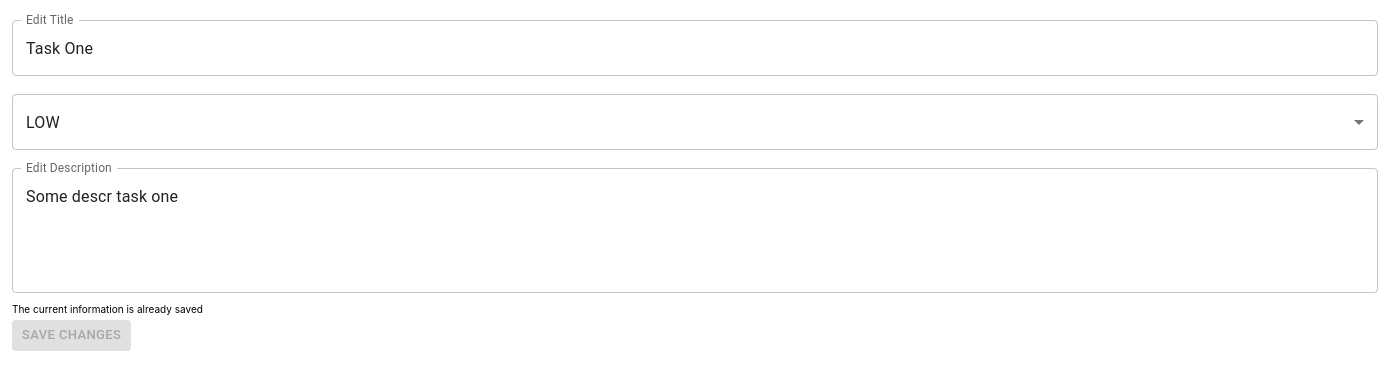
Test: <InformationTaskEdit /> Component › Save Changes is disabled if task data is the same
Expected: the button "Save Changes" is disabled, [12,320,131,351]
Type "New description" into the text box labelled "Edit Description".
click(695, 230); type("New description")  # box [26,184,1364,276]
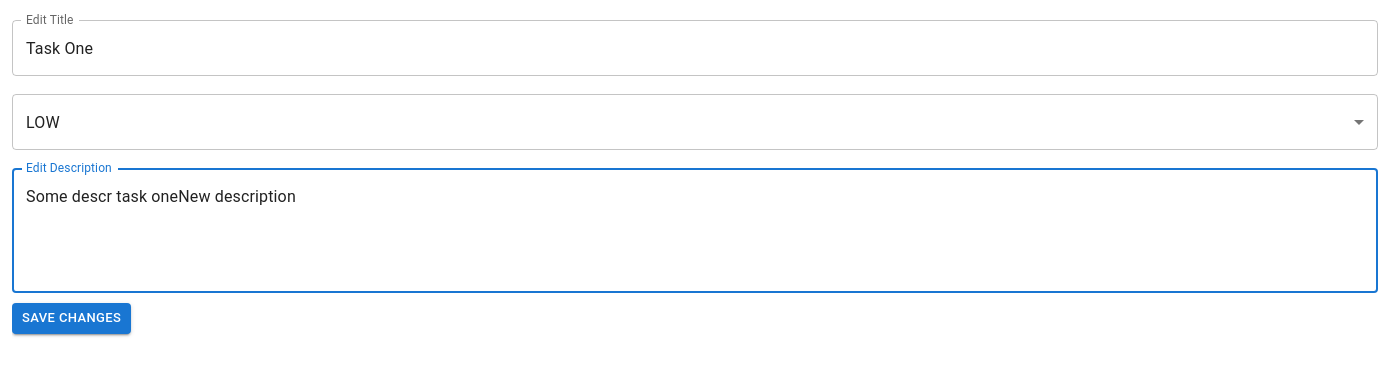
Now the button "Save Changes" is enabled, box [12,303,131,334]
# fill the same description like the inital render
Replace the text in the text box labelled "Edit Description" with "Some descr task one" at coordinates (695, 230), box [26,184,1364,276]
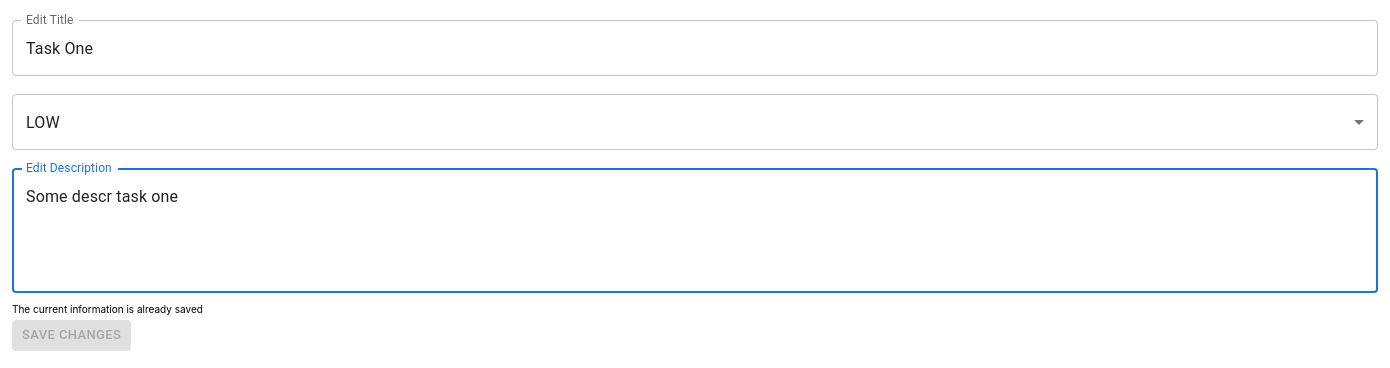
Now the button "Save Changes" is disabled, box [12,320,131,351]
